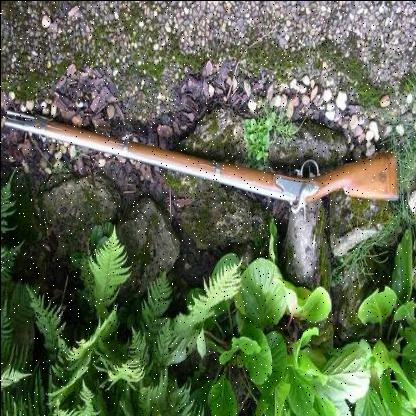rifle: (2, 98, 404, 223)
